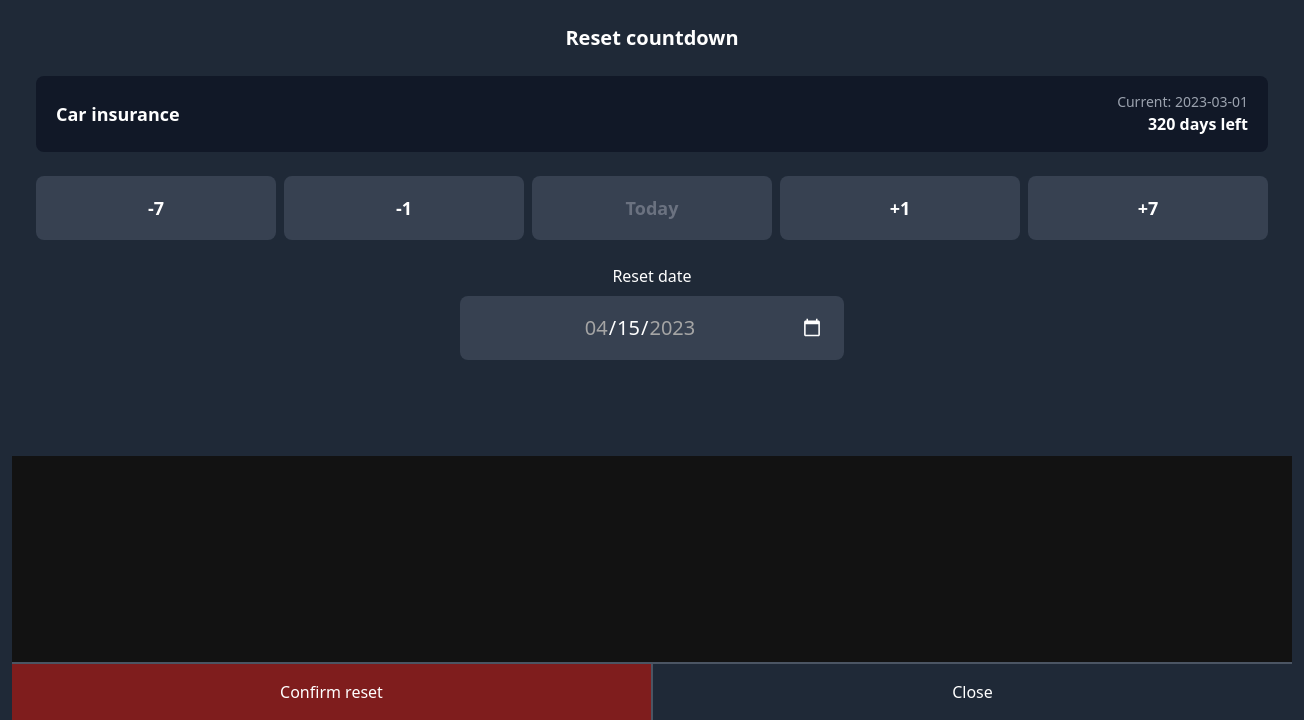
Test: CountdownResetBody › should return to today and disable the today button
Click the button "+7".
click(1148, 208)  # box x1=1028 y1=176 x2=1268 y2=240
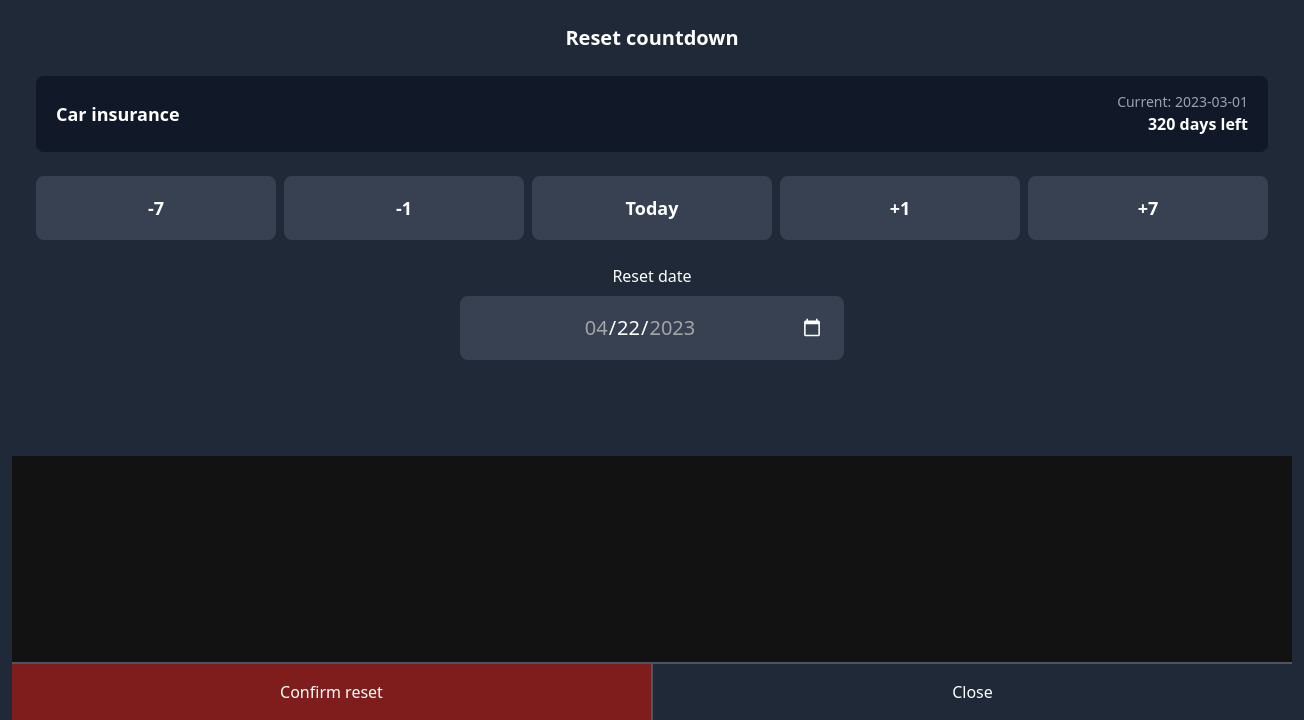
expect the button "Today" is enabled: met
Click the button "Today".
click(652, 208)  # box x1=532 y1=176 x2=772 y2=240
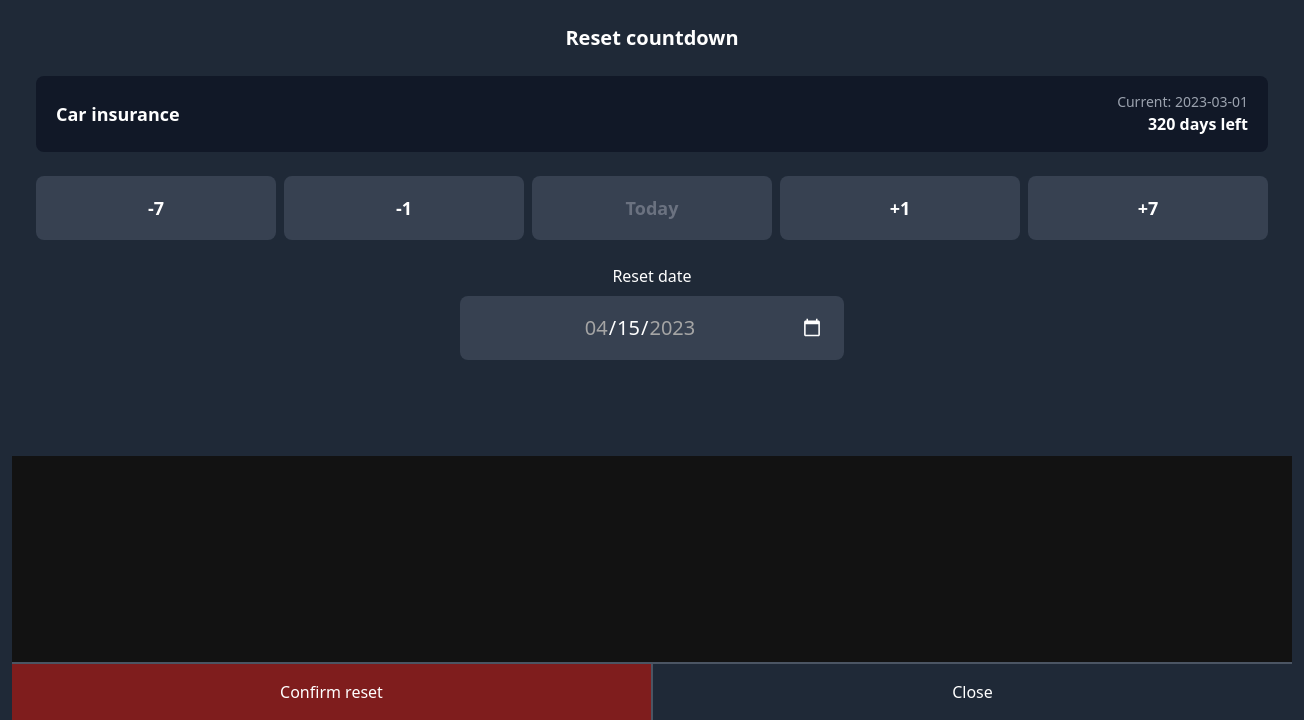
expect the date field labelled "Reset date" holds "2023-04-15": met, box x1=460 y1=296 x2=844 y2=360
expect the button "Today" is disabled: met, box x1=532 y1=176 x2=772 y2=240
